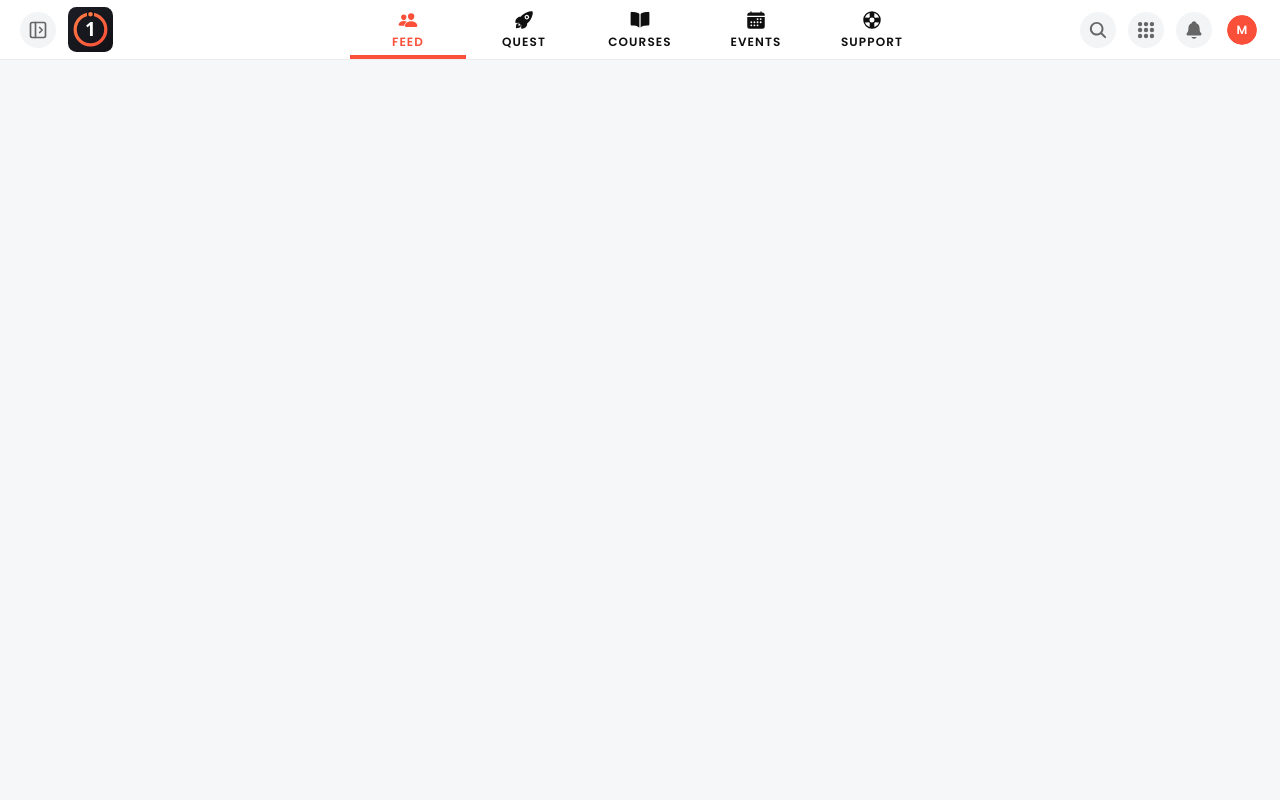
it: TopNav search › opens the universal search palette
Check: the field with placeholder "search pages" is not shown
What coordinates should you click on to do the following:
click the button named "Search"
I would click on:
 (1098, 30)
Its box is [1080,12,1116,48].
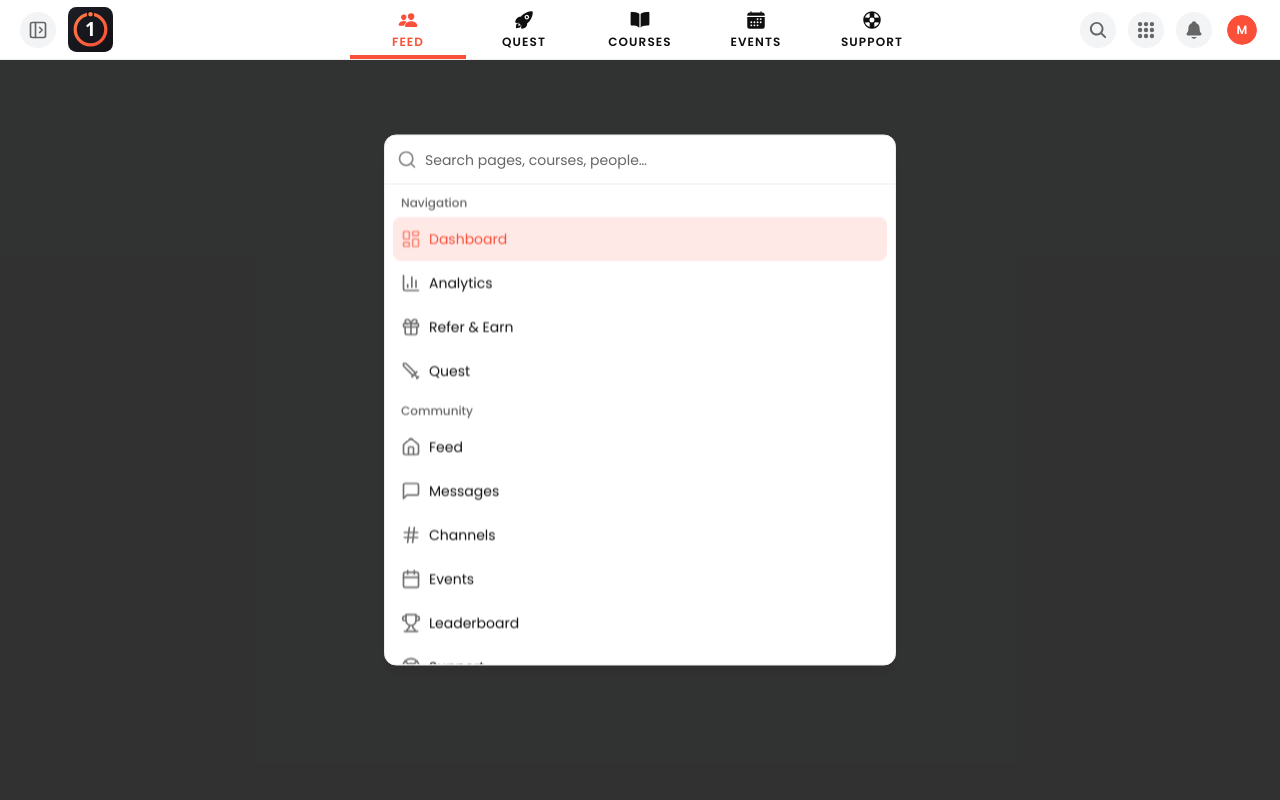
Check: the dropdown with placeholder "Search pages, courses, people…" is shown, box [425,136,883,184]
